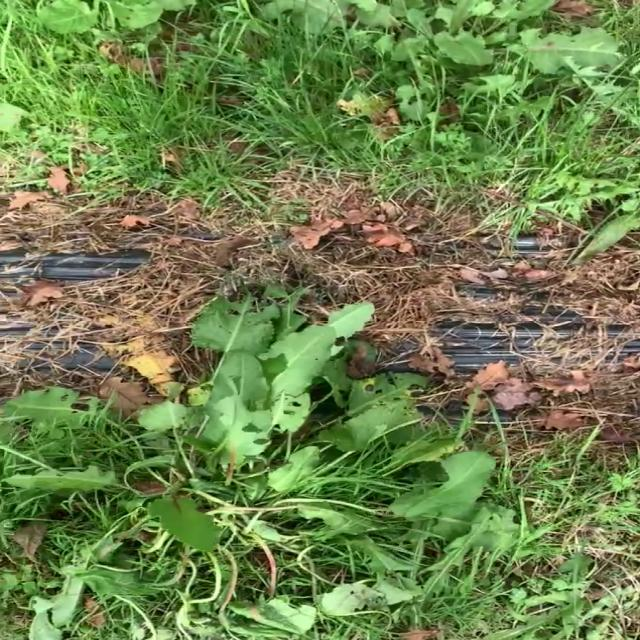organic waste: (3, 283, 540, 640), (263, 0, 640, 122), (0, 0, 220, 62)
